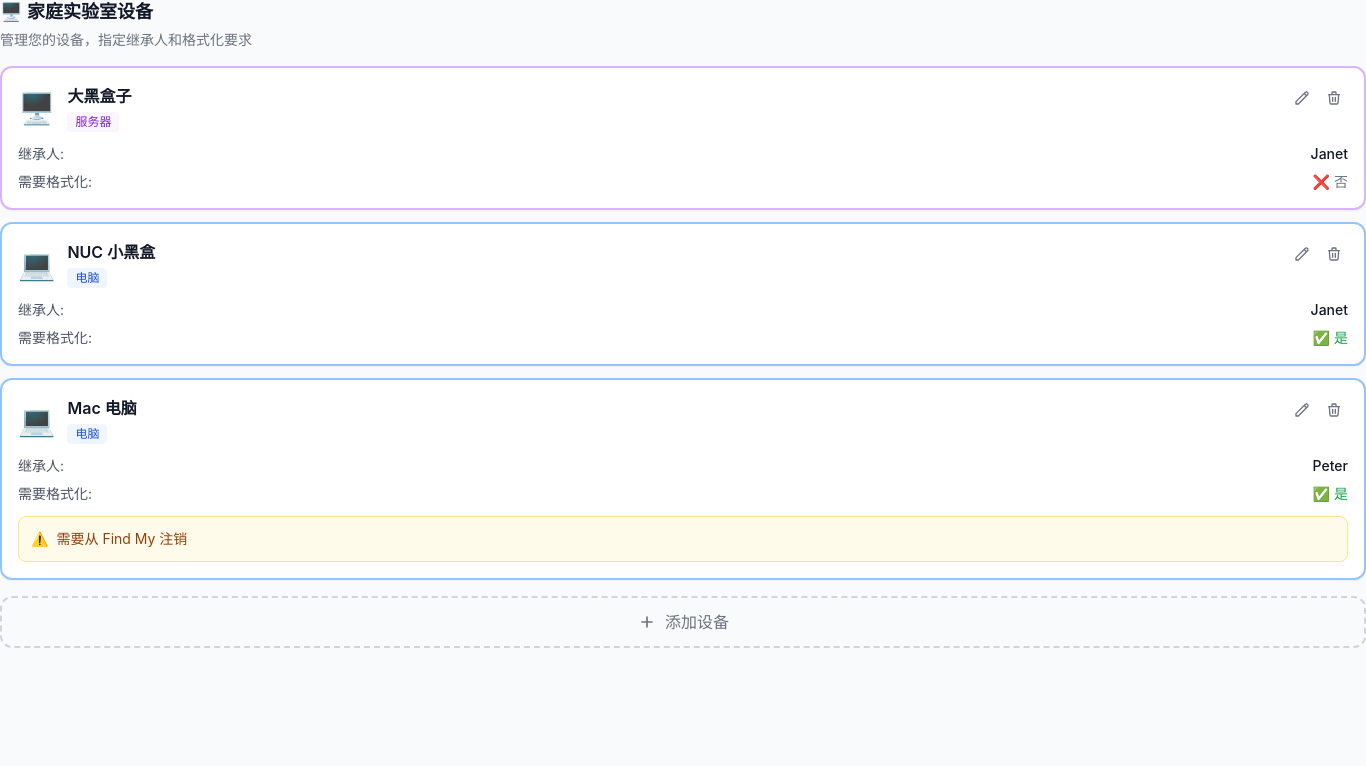
Test case: DeviceCardList › Add Device › should hide form when cancelled
What coordinates should you click on to do the following:
click the button with test id "add-device-button"
I would click on:
 (683, 622)
Its box is [0,596,1365,648].
(page scrolled)
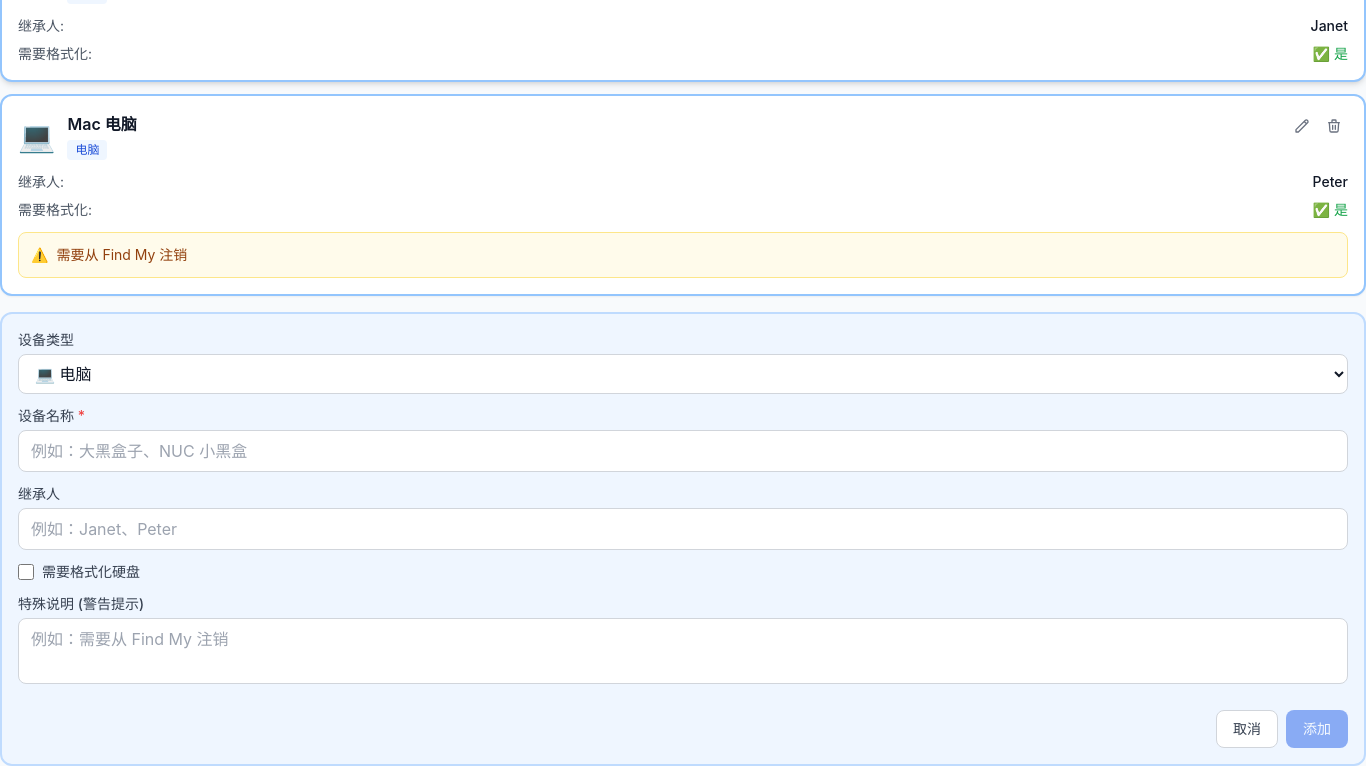
What coordinates should you click on to do the following:
click the button with test id "device-cancel-button"
I would click on:
 (1247, 729)
Its box is [1216,710,1278,748].
(page scrolled)
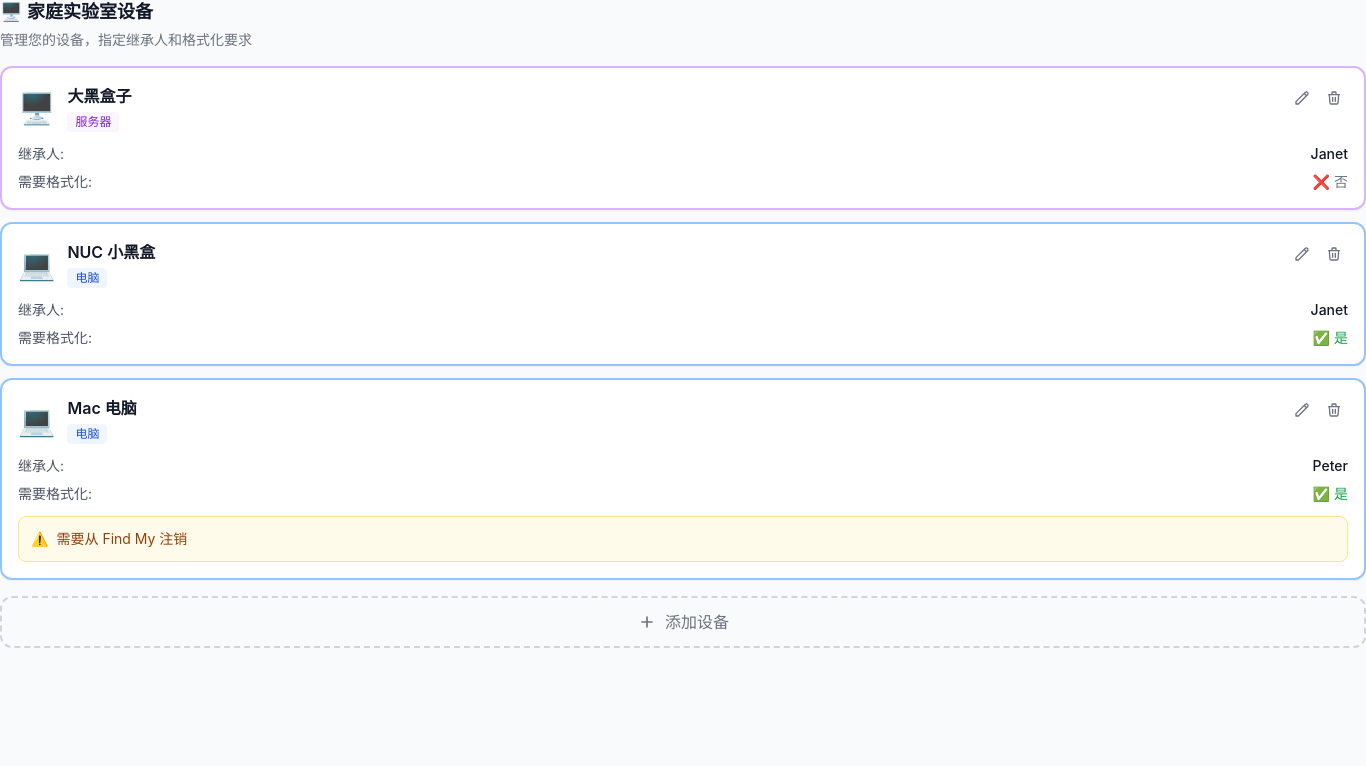
Now the form with test id "device-card-form" is gone
Now the button with test id "add-device-button" is shown, box [0,596,1365,648]
